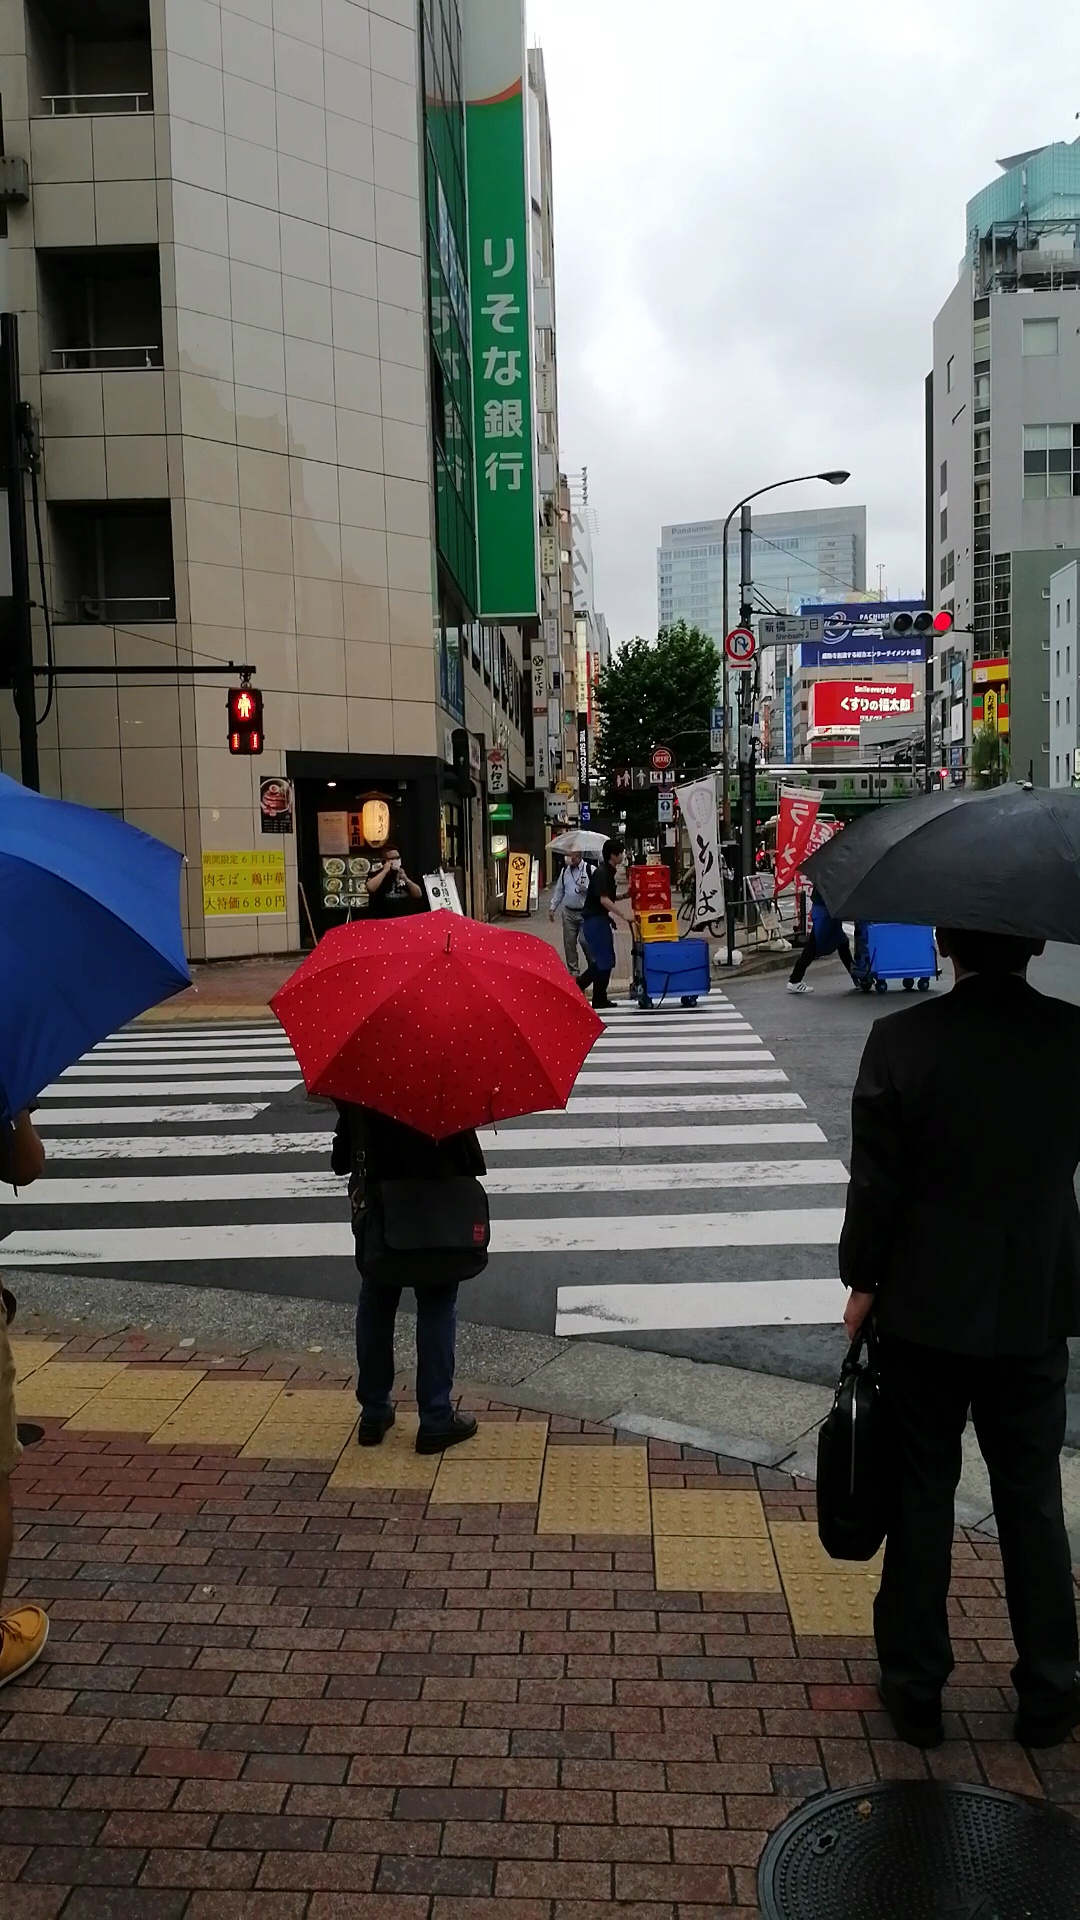red: (227, 687, 265, 754)
